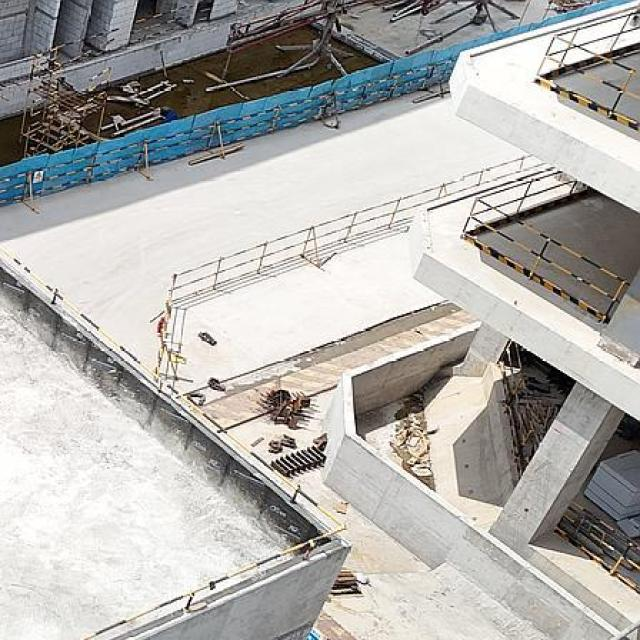Guardrail: (1, 230, 348, 640), (458, 169, 632, 325), (533, 10, 640, 126), (554, 501, 640, 594), (498, 342, 542, 479), (54, 21, 119, 66), (130, 5, 190, 45), (198, 8, 211, 21)
